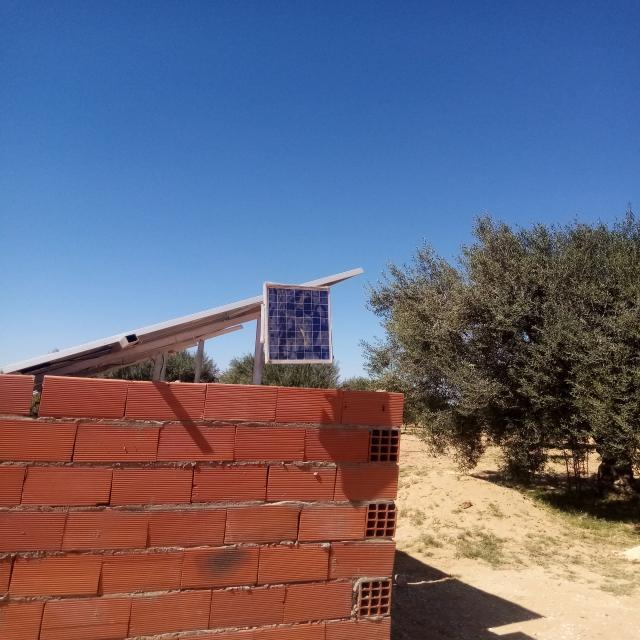faulty: (266, 283, 333, 363)
